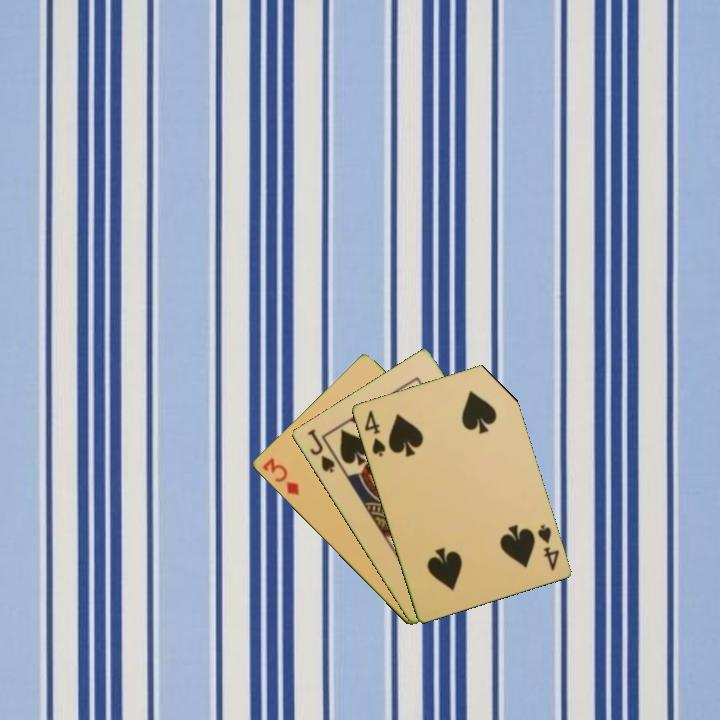3d: (259, 454, 302, 498)
4s: (360, 406, 388, 459), (534, 521, 562, 573)
Js: (303, 425, 337, 476)
